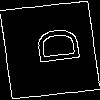D: (25, 25, 80, 67)
